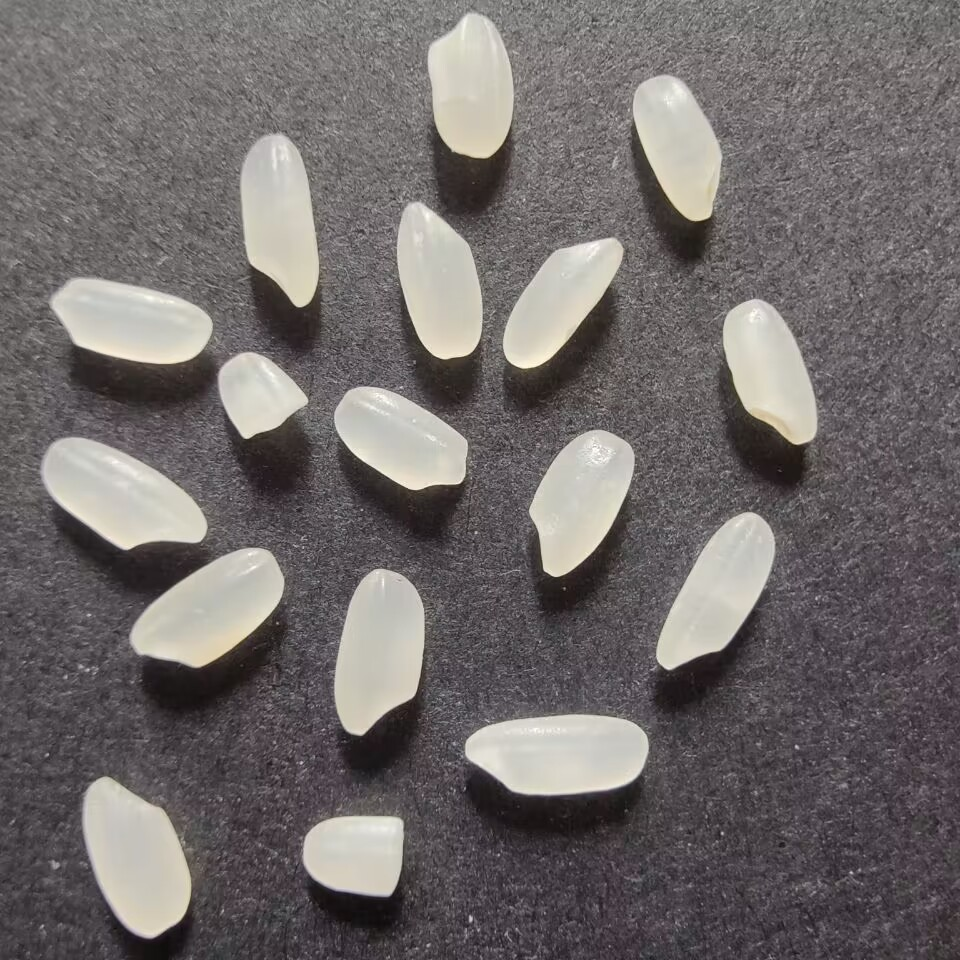broken: (293, 810, 409, 904), (212, 345, 316, 443)
rice: (653, 506, 780, 677), (35, 435, 212, 556), (125, 544, 286, 673), (79, 774, 193, 944), (496, 231, 629, 376), (326, 565, 431, 741), (520, 425, 638, 580), (460, 712, 658, 799), (234, 125, 326, 312), (43, 274, 218, 369), (390, 197, 490, 362), (718, 295, 825, 448), (332, 380, 476, 492), (629, 71, 728, 229), (421, 11, 517, 165)
